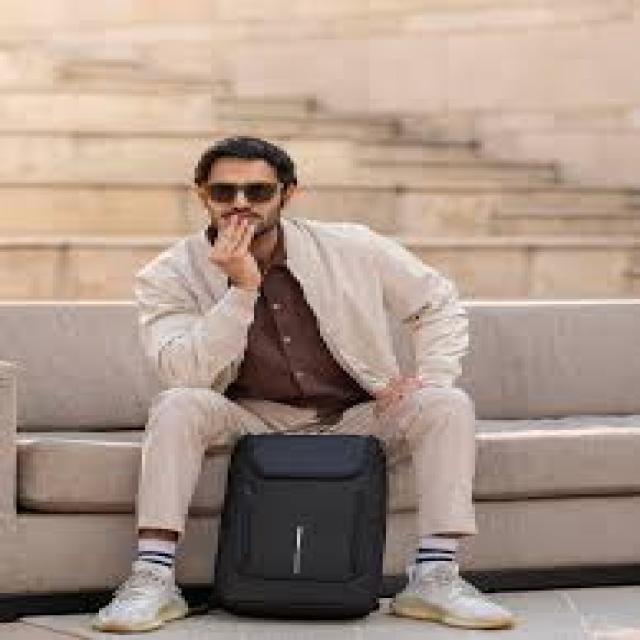backpack: (210, 427, 384, 631)
